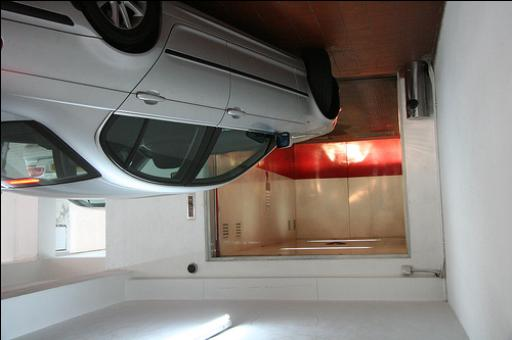Cheetah: (0, 0, 367, 204)
